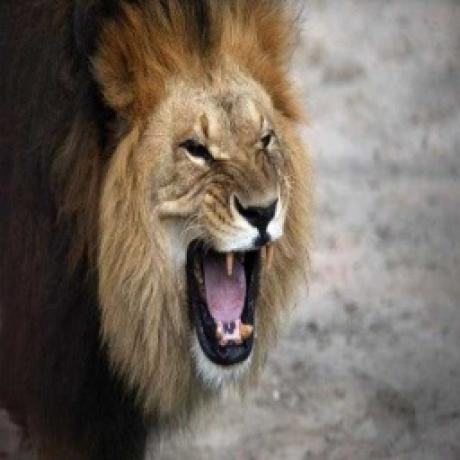Lion: (0, 0, 315, 460)
